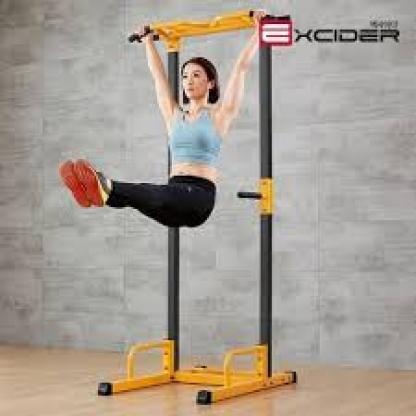chinning dipping: (97, 9, 298, 404)
